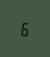six: (19, 19, 28, 37)
